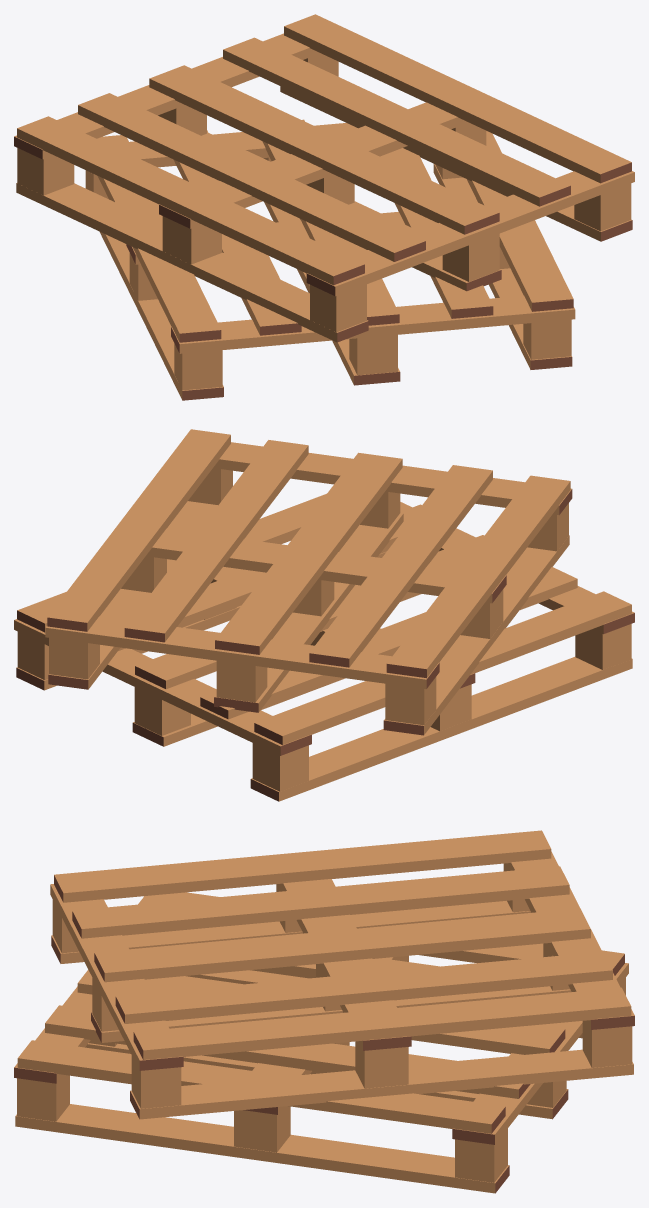
Rendered from pallet2.fbx.
The picture shows the model from 3 angles, top to bottom: view 1: azimuth 30°, elevation 25°; view 2: azimuth 150°, elevation 25°; view 3: azimuth 270°, elevation 25°; orthographic projection. The views are drawn at different scales.
Visible parts, largest first — view 1: pallet2.013, pallet2.009, pallet2.012, pallet2.011, pallet2.010, pallet2.007, pallet2.020, pallet2.040, pallet2.032, pallet2.030, pallet2.005, pallet2.001 (+20 smaller); view 2: pallet2.013, pallet2.012, pallet2.009, pallet2.011, pallet2.010, pallet2.027, pallet2.032, pallet2.001, pallet2.007, pallet2.005, pallet2.021, pallet2.040 (+23 smaller); view 3: pallet2.013, pallet2.010, pallet2.011, pallet2.009, pallet2.012, pallet2.006, pallet2.026, pallet2.030, pallet2.007, pallet2.029, pallet2.040, pallet2.033 (+19 smaller).
Part boxes in pixels (bbox=[...]): pallet2.013: bbox=[149, 65, 499, 234]; pallet2.009: bbox=[223, 37, 570, 206]; pallet2.012: bbox=[17, 116, 364, 285]; pallet2.011: bbox=[78, 93, 425, 261]; pallet2.010: bbox=[284, 14, 631, 183]; pallet2.007: bbox=[16, 183, 368, 342]; pallet2.020: bbox=[171, 295, 575, 353]; pallet2.040: bbox=[306, 171, 634, 296]; pallet2.032: bbox=[97, 135, 221, 342]; pallet2.030: bbox=[467, 131, 573, 311]; pallet2.005: bbox=[159, 102, 468, 228]; pallet2.001: bbox=[14, 33, 320, 159]; pallet2.013: bbox=[215, 452, 402, 654]; pallet2.012: bbox=[386, 475, 570, 678]; pallet2.009: bbox=[124, 440, 308, 642]; pallet2.011: bbox=[309, 465, 492, 667]; pallet2.010: bbox=[47, 429, 230, 631]; pallet2.027: bbox=[250, 657, 632, 801]; pallet2.032: bbox=[254, 591, 631, 744]; pallet2.001: bbox=[45, 616, 439, 689]; pallet2.007: bbox=[383, 535, 569, 735]; pallet2.005: bbox=[146, 528, 506, 603]; pallet2.021: bbox=[14, 619, 311, 755]; pallet2.040: bbox=[213, 442, 572, 515]; pallet2.013: bbox=[94, 908, 590, 982]; pallet2.010: bbox=[133, 987, 631, 1059]; pallet2.011: bbox=[72, 866, 569, 938]; pallet2.009: bbox=[115, 951, 612, 1023]; pallet2.012: bbox=[54, 830, 551, 902]; pallet2.006: bbox=[130, 1049, 633, 1119]; pallet2.026: bbox=[15, 1104, 509, 1193]; pallet2.030: bbox=[17, 1040, 505, 1133]; pallet2.007: bbox=[51, 901, 531, 963]; pallet2.029: bbox=[45, 1005, 530, 1098]; pallet2.040: bbox=[50, 884, 183, 1070]; pallet2.033: bbox=[77, 970, 565, 1054].
Bounding box in the file's own units: 2.46 × 2.23 × 0.6041.
